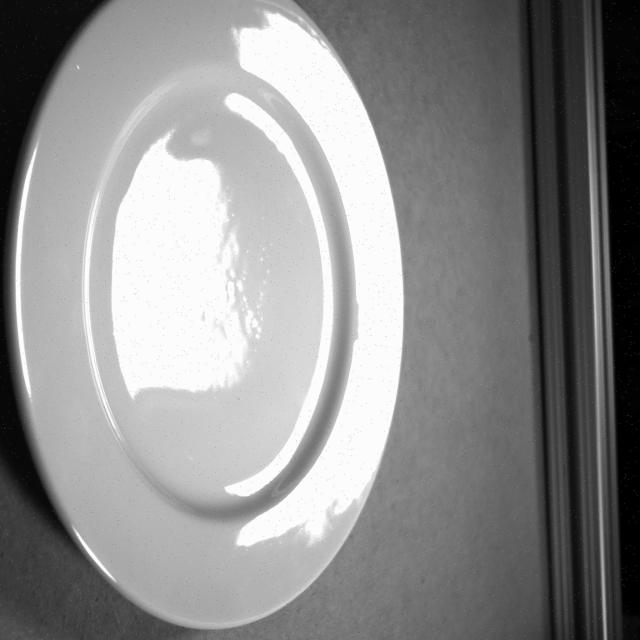plate: (0, 1, 432, 639)
